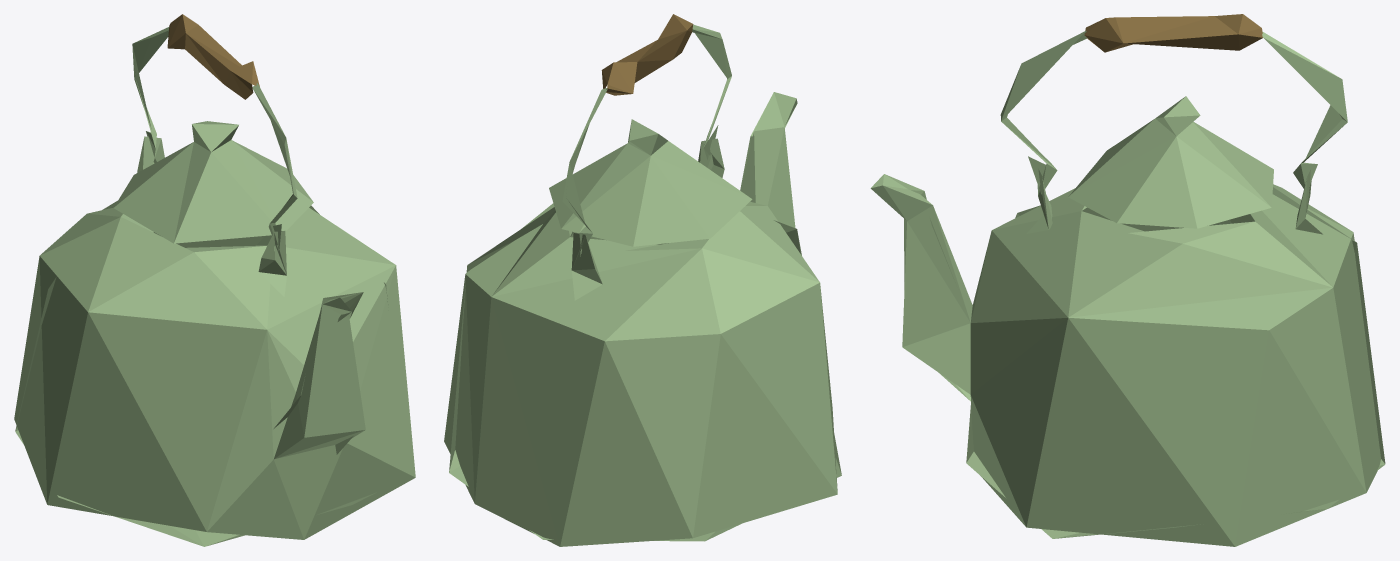
File: kettle_enamel.glb
3 renders of one model, left to right at view 1: azimuth 30°, elevation 25°; view 2: azimuth 150°, elevation 25°; view 3: azimuth 270°, elevation 25°, orthographic. The views are drawn at different scales.
Parts seen in each view (by area): view 1: kettle_enamel.001; view 2: kettle_enamel.001; view 3: kettle_enamel.001.
Boxes of the visible parts, left/top/right/bottom form: kettle_enamel.001: left=14, top=14, right=415, bottom=546; kettle_enamel.001: left=444, top=14, right=841, bottom=546; kettle_enamel.001: left=870, top=14, right=1385, bottom=546.
Size of the model in its own units: 0.205 by 0.2389 by 0.2437.
